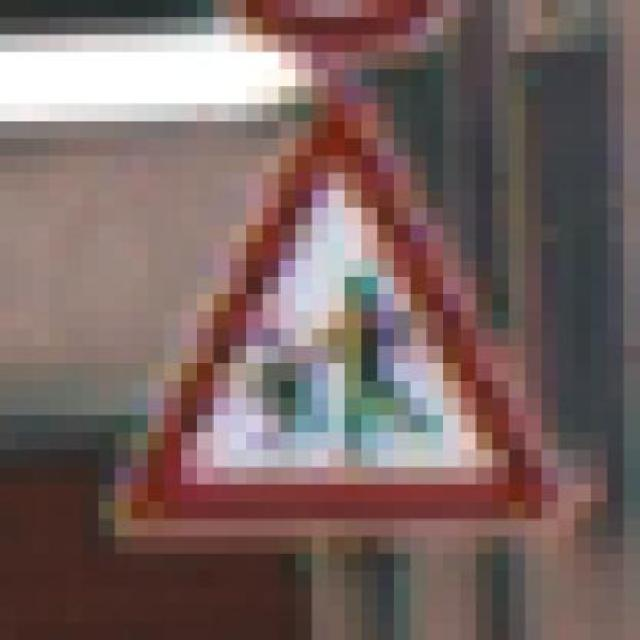Beware of children: (82, 86, 575, 537)
